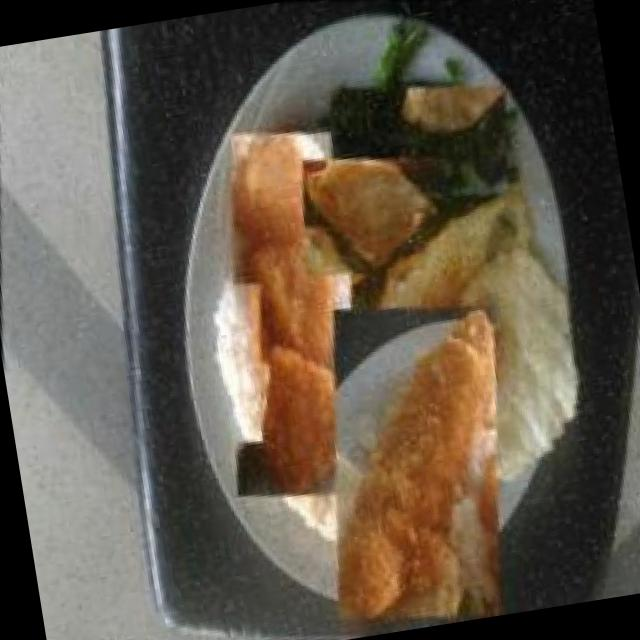fried_chicken: (285, 280, 540, 640)
fried_dumplings: (290, 132, 460, 303)
fried_eggs: (334, 184, 604, 501)
rice: (194, 277, 284, 450)
triangle_hash_brown: (178, 113, 405, 516)
water_spinach: (314, 61, 522, 222)
